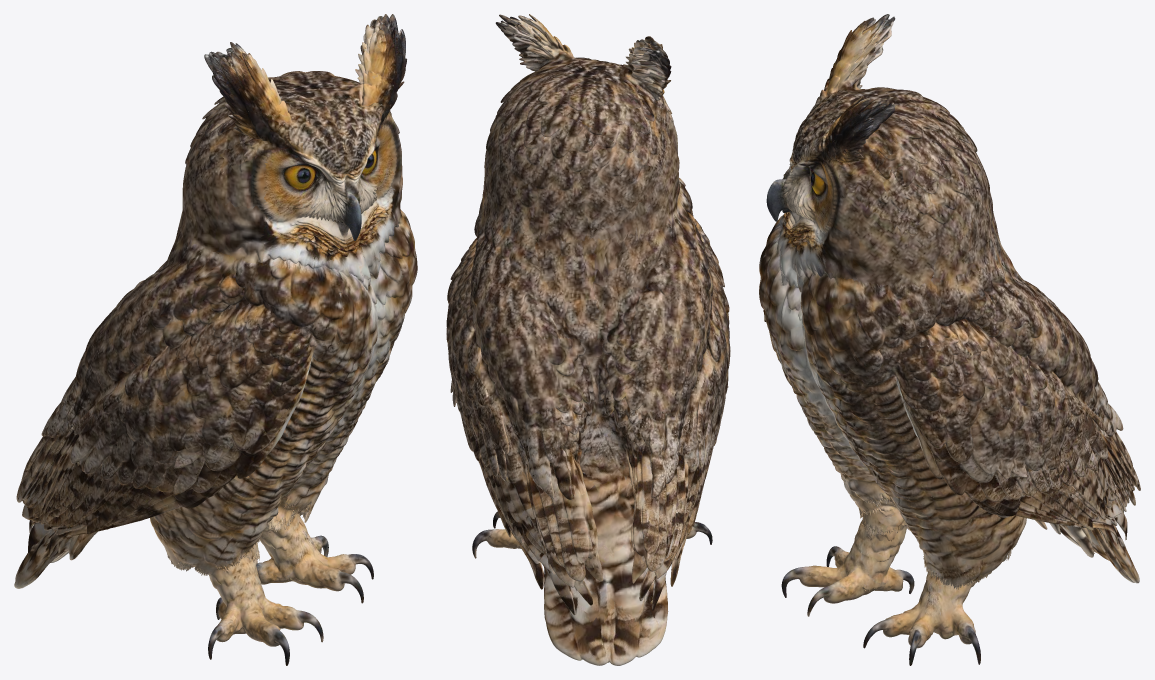
Rendered from owl.glb.
3 renders of one model, left to right at view 1: azimuth 30°, elevation 25°; view 2: azimuth 150°, elevation 25°; view 3: azimuth 270°, elevation 25°, orthographic. The views are drawn at different scales.
Parts seen in each view (by area): view 1: owl; view 2: owl; view 3: owl.
Part boxes in pixels (<box>): owl: <box>14,14,417,665</box>; owl: <box>446,14,730,665</box>; owl: <box>759,14,1140,665</box>.
Bounding box in the file's own units: 0.2884 × 0.55 × 0.321.
1 material, 1 textured.
